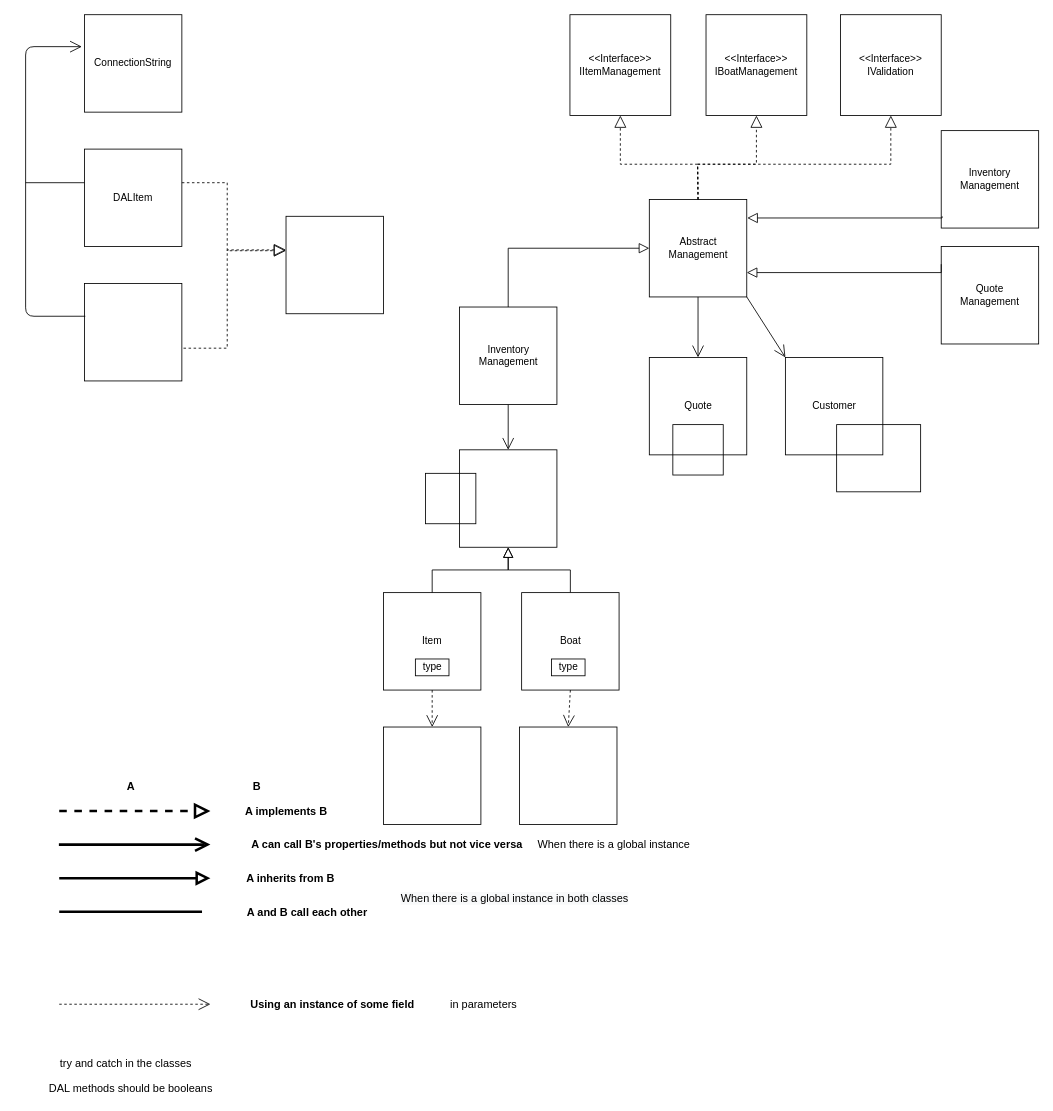
This 1053x1111 diagram has some shape labels left out. The shapes that lost their labels are listed below. From the top down, each one's centre as x and y in pixels, then its label:
point (334, 264): <<Interface>> IDAL
point (133, 332): DALQuote
point (697, 449): items, duration, price, quantity
point (878, 458): Customer name, address, phone, quoteID, email
point (450, 498): cost, deposit, quantity, remark
point (508, 498): Inventory
point (432, 775): <<enumeration>> ITEMTYPE
point (568, 775): <<enumeration>> BOATTYPE
